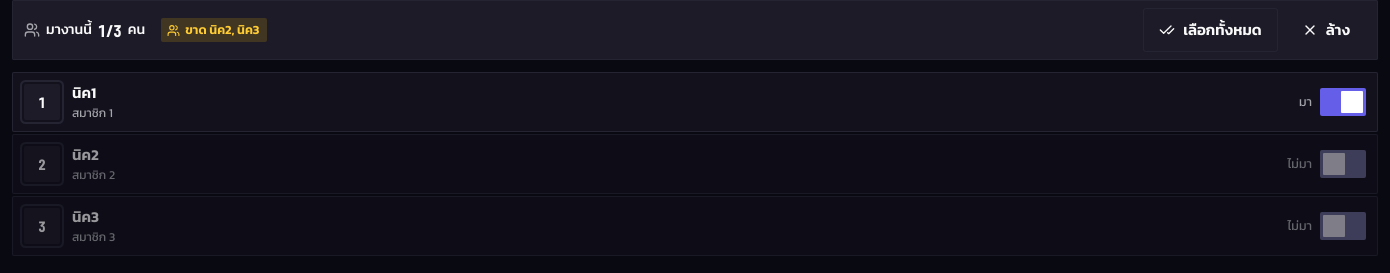
it: LineupEditor · turning on a member another device already turned on › she stays ON, บันทึกแล้ว, no failure and no Postgres sentence
Click the button "2 นิค2 สมาชิก 2 ไม่มา" at (42,164), box [12, 134, 1378, 194]
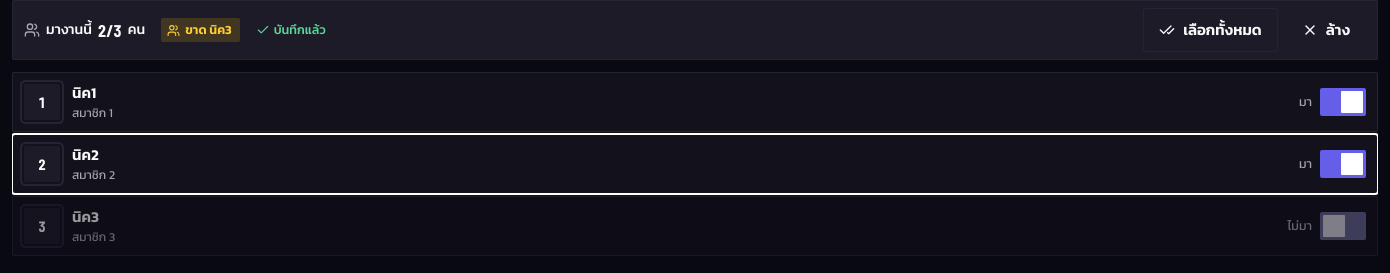
expect the text "บันทึกแล้ว" is shown: met, box [256, 21, 326, 39]
